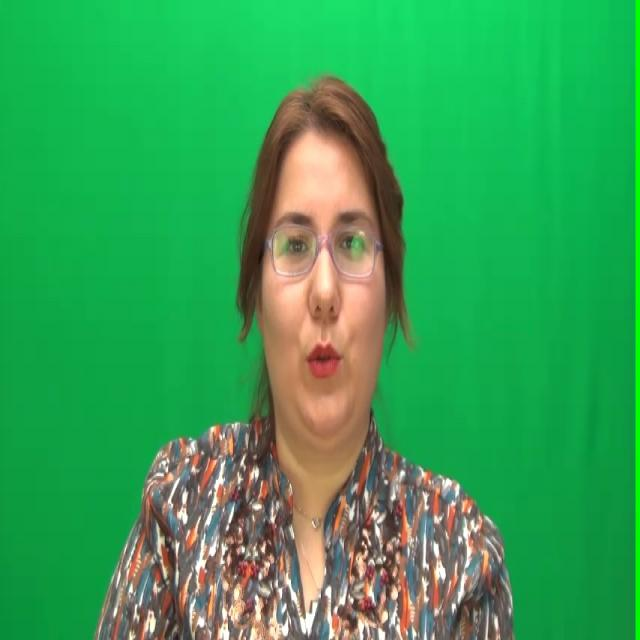Boredom: (259, 129, 382, 432)
